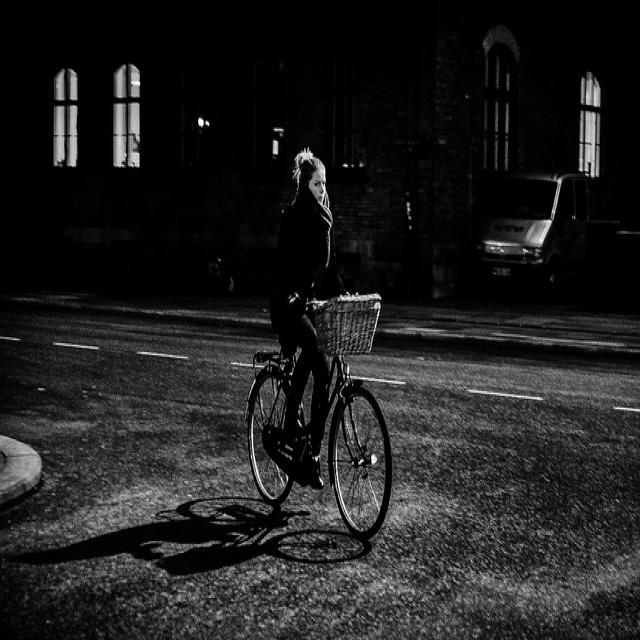Bicycle: (216, 264, 433, 526)
People: (268, 71, 337, 347)
